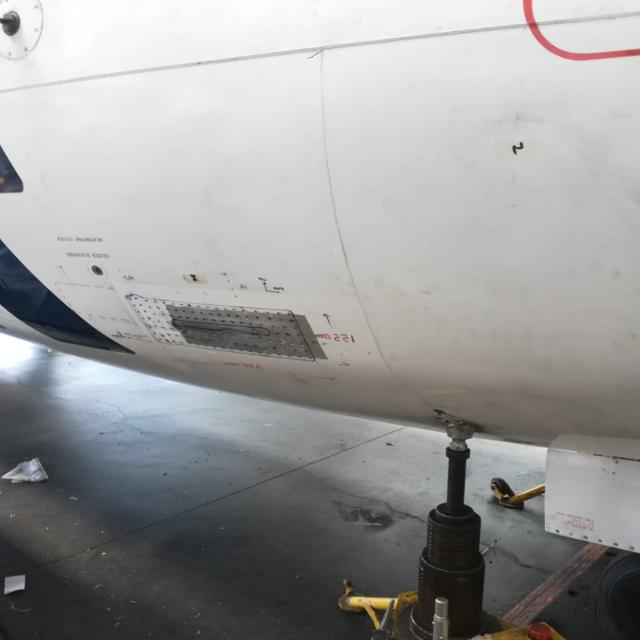Rupture: (304, 46, 327, 58)
